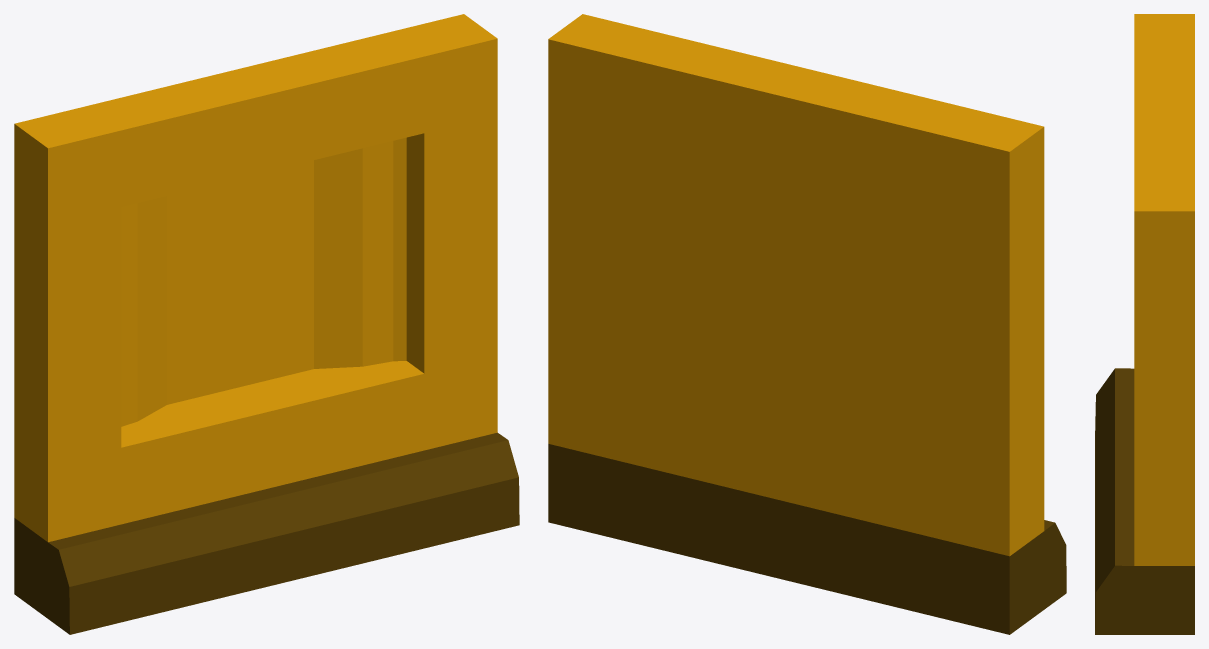
The model's file is Wall Gap.fbx.
3 views of the same model, side by side, from view 1: azimuth 30°, elevation 25°; view 2: azimuth 150°, elevation 25°; view 3: azimuth 270°, elevation 25° (orthographic). The views are drawn at different scales.
Parts seen in each view (by area): view 1: Cube.008; view 2: Cube.008; view 3: Cube.008.
Boxes of the visible parts, x1,y1,x2,y2 form: Cube.008: (14, 14, 519, 634); Cube.008: (548, 14, 1066, 634); Cube.008: (1095, 14, 1194, 634).
Size of the model in its own units: 200 by 200 by 42.8.
